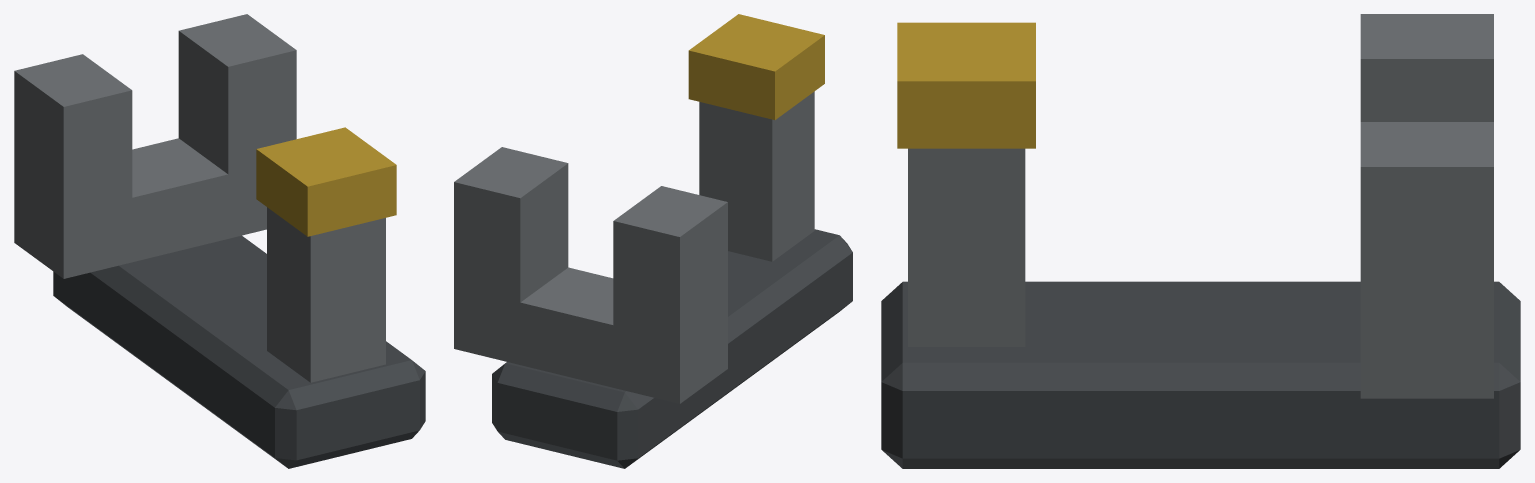
The model's file is mod_sight_iron.glb.
3 renders of one model, left to right at view 1: azimuth 30°, elevation 25°; view 2: azimuth 150°, elevation 25°; view 3: azimuth 270°, elevation 25°, orthographic. The views are drawn at different scales.
Visible parts, largest first — view 1: sight_iron; view 2: sight_iron; view 3: sight_iron.
Boxes of the visible parts, x1=… form: sight_iron: x1=14, y1=14, x2=425, y2=468; sight_iron: x1=454, y1=14, x2=852, y2=468; sight_iron: x1=881, y1=14, x2=1520, y2=468.
Size of the model in its own units: 0.068 by 0.078 by 0.12.
